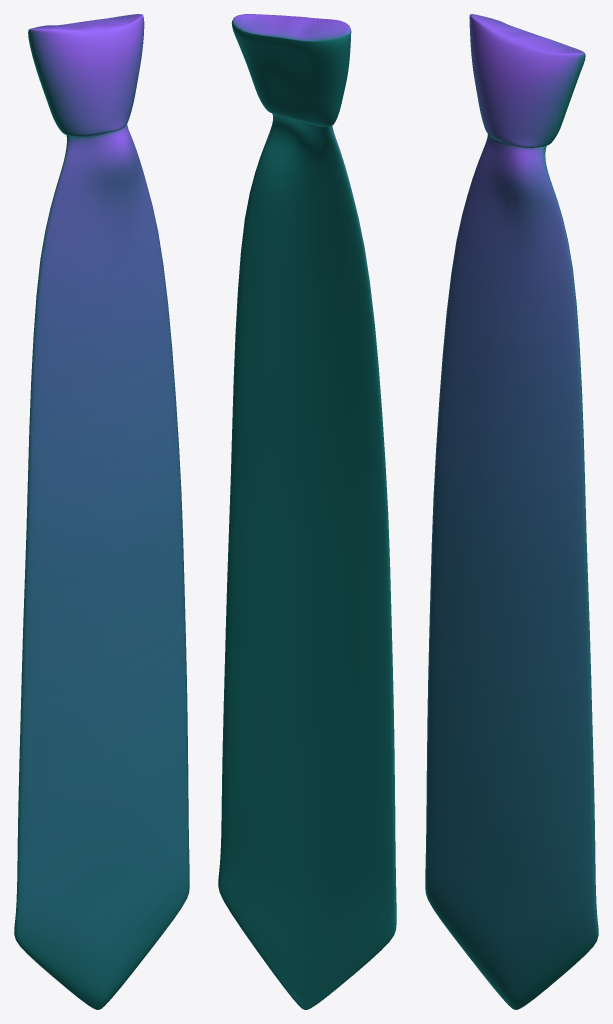
The model's file is tie.obj.
The picture shows the model from 3 angles, left to right: view 1: azimuth 30°, elevation 25°; view 2: azimuth 150°, elevation 25°; view 3: azimuth 330°, elevation 25°; orthographic projection. The views are drawn at different scales.
Visible parts, largest first — view 1: Tie; view 2: Tie; view 3: Tie.
Boxes of the visible parts, x1,y1,x2,y2 form: Tie: (14, 14, 189, 1009); Tie: (218, 14, 396, 1009); Tie: (425, 14, 598, 1009).
Size of the model in its own units: 0.2625 by 1.42 by 0.0852.
